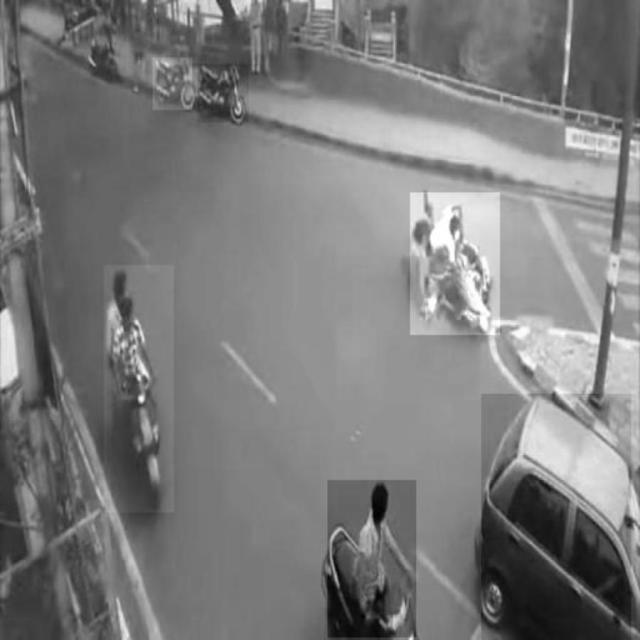accident: (410, 193, 501, 335)
vehicle: (482, 394, 632, 640), (105, 265, 175, 513), (328, 481, 416, 638), (198, 64, 249, 122), (153, 58, 193, 110)
